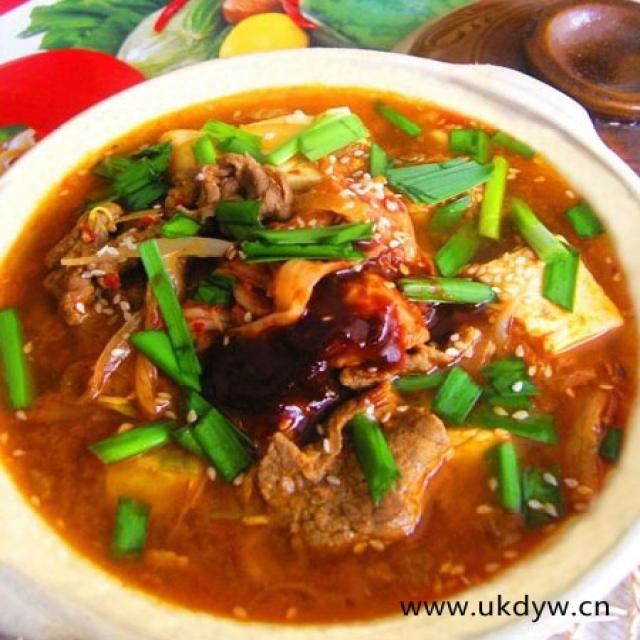豆腐料理: (10, 69, 629, 610)
